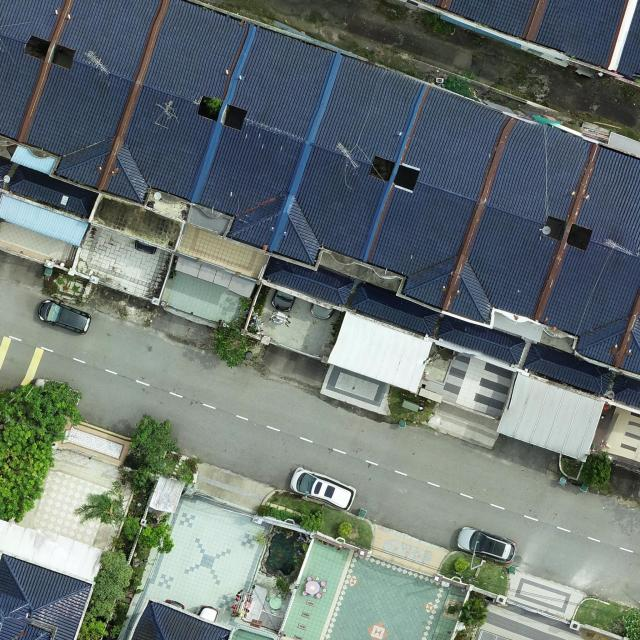Tree: (0, 380, 83, 522), (130, 414, 181, 476), (73, 492, 124, 526), (213, 322, 248, 369), (580, 450, 612, 485), (457, 598, 488, 630), (299, 506, 324, 532), (622, 609, 640, 640)
